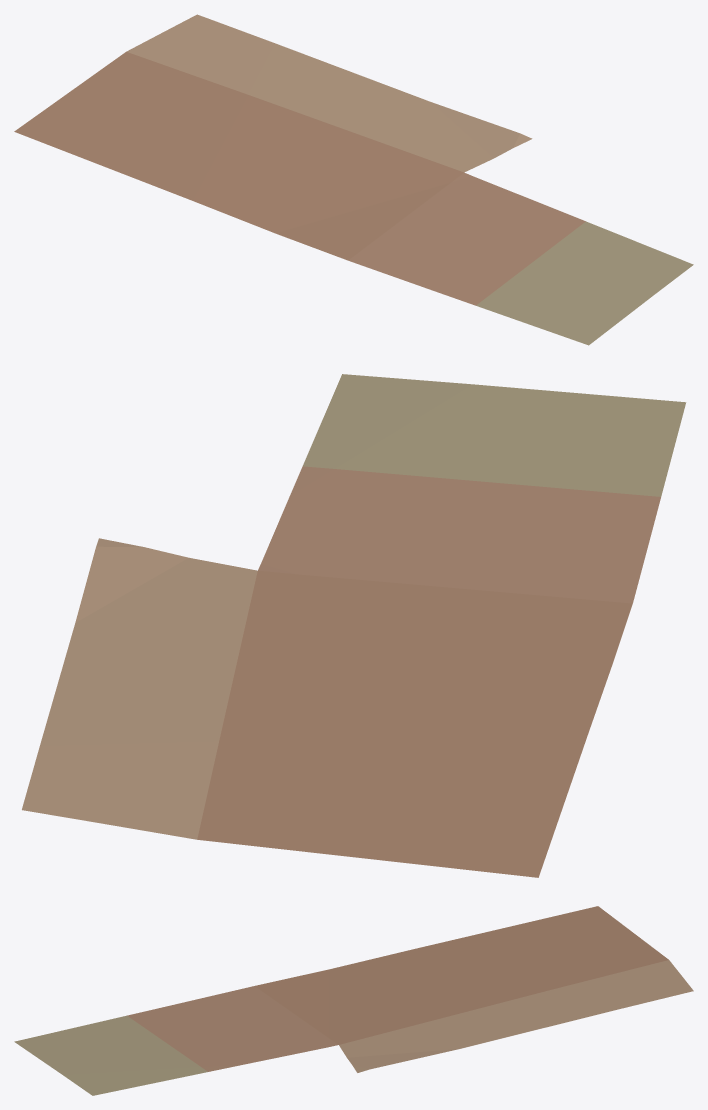
File: farm_-33_-37_soil.glb
3 views of the same model, one above another, from view 1: azimuth 30°, elevation 25°; view 2: azimuth 150°, elevation 25°; view 3: azimuth 270°, elevation 25° (orthographic). The views are drawn at different scales.
Parts seen in each view (by area): view 1: geometry_0; view 2: geometry_0; view 3: geometry_0.
Part boxes in pixels (box(x1,y1,x2,y2)): geometry_0: box(14, 14, 693, 345); geometry_0: box(22, 374, 686, 877); geometry_0: box(14, 906, 693, 1095).
Size of the model in its own units: 91.36 by 11.65 by 153.
